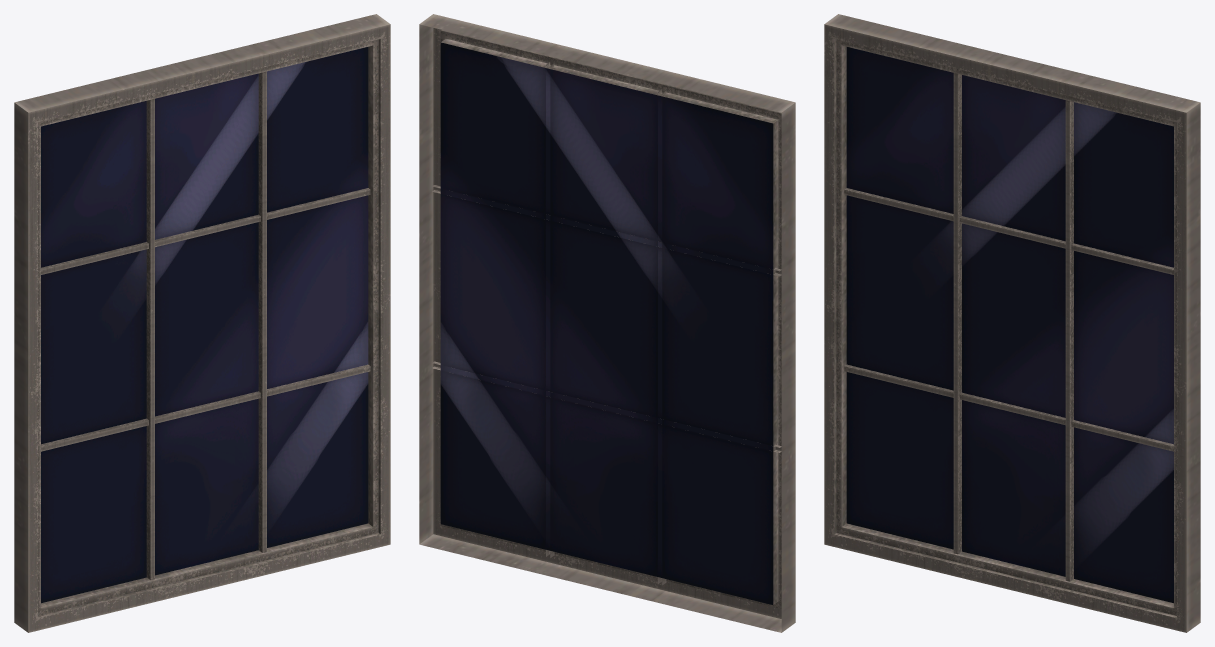
File: GeneralStore_Window.obj
3 renders of one model, left to right at view 1: azimuth 30°, elevation 25°; view 2: azimuth 150°, elevation 25°; view 3: azimuth 330°, elevation 25°, orthographic.
Visible parts, largest first — view 1: Model_GeneralStore_Window; view 2: Model_GeneralStore_Window; view 3: Model_GeneralStore_Window.
Boxes of the visible parts, x1,y1,x2,y2 form: Model_GeneralStore_Window: (14,14,390,632); Model_GeneralStore_Window: (419,14,795,632); Model_GeneralStore_Window: (824,14,1200,632).
Size of the model in its own units: 1.52 by 2.09 by 0.103.
1 material, 1 textured.
